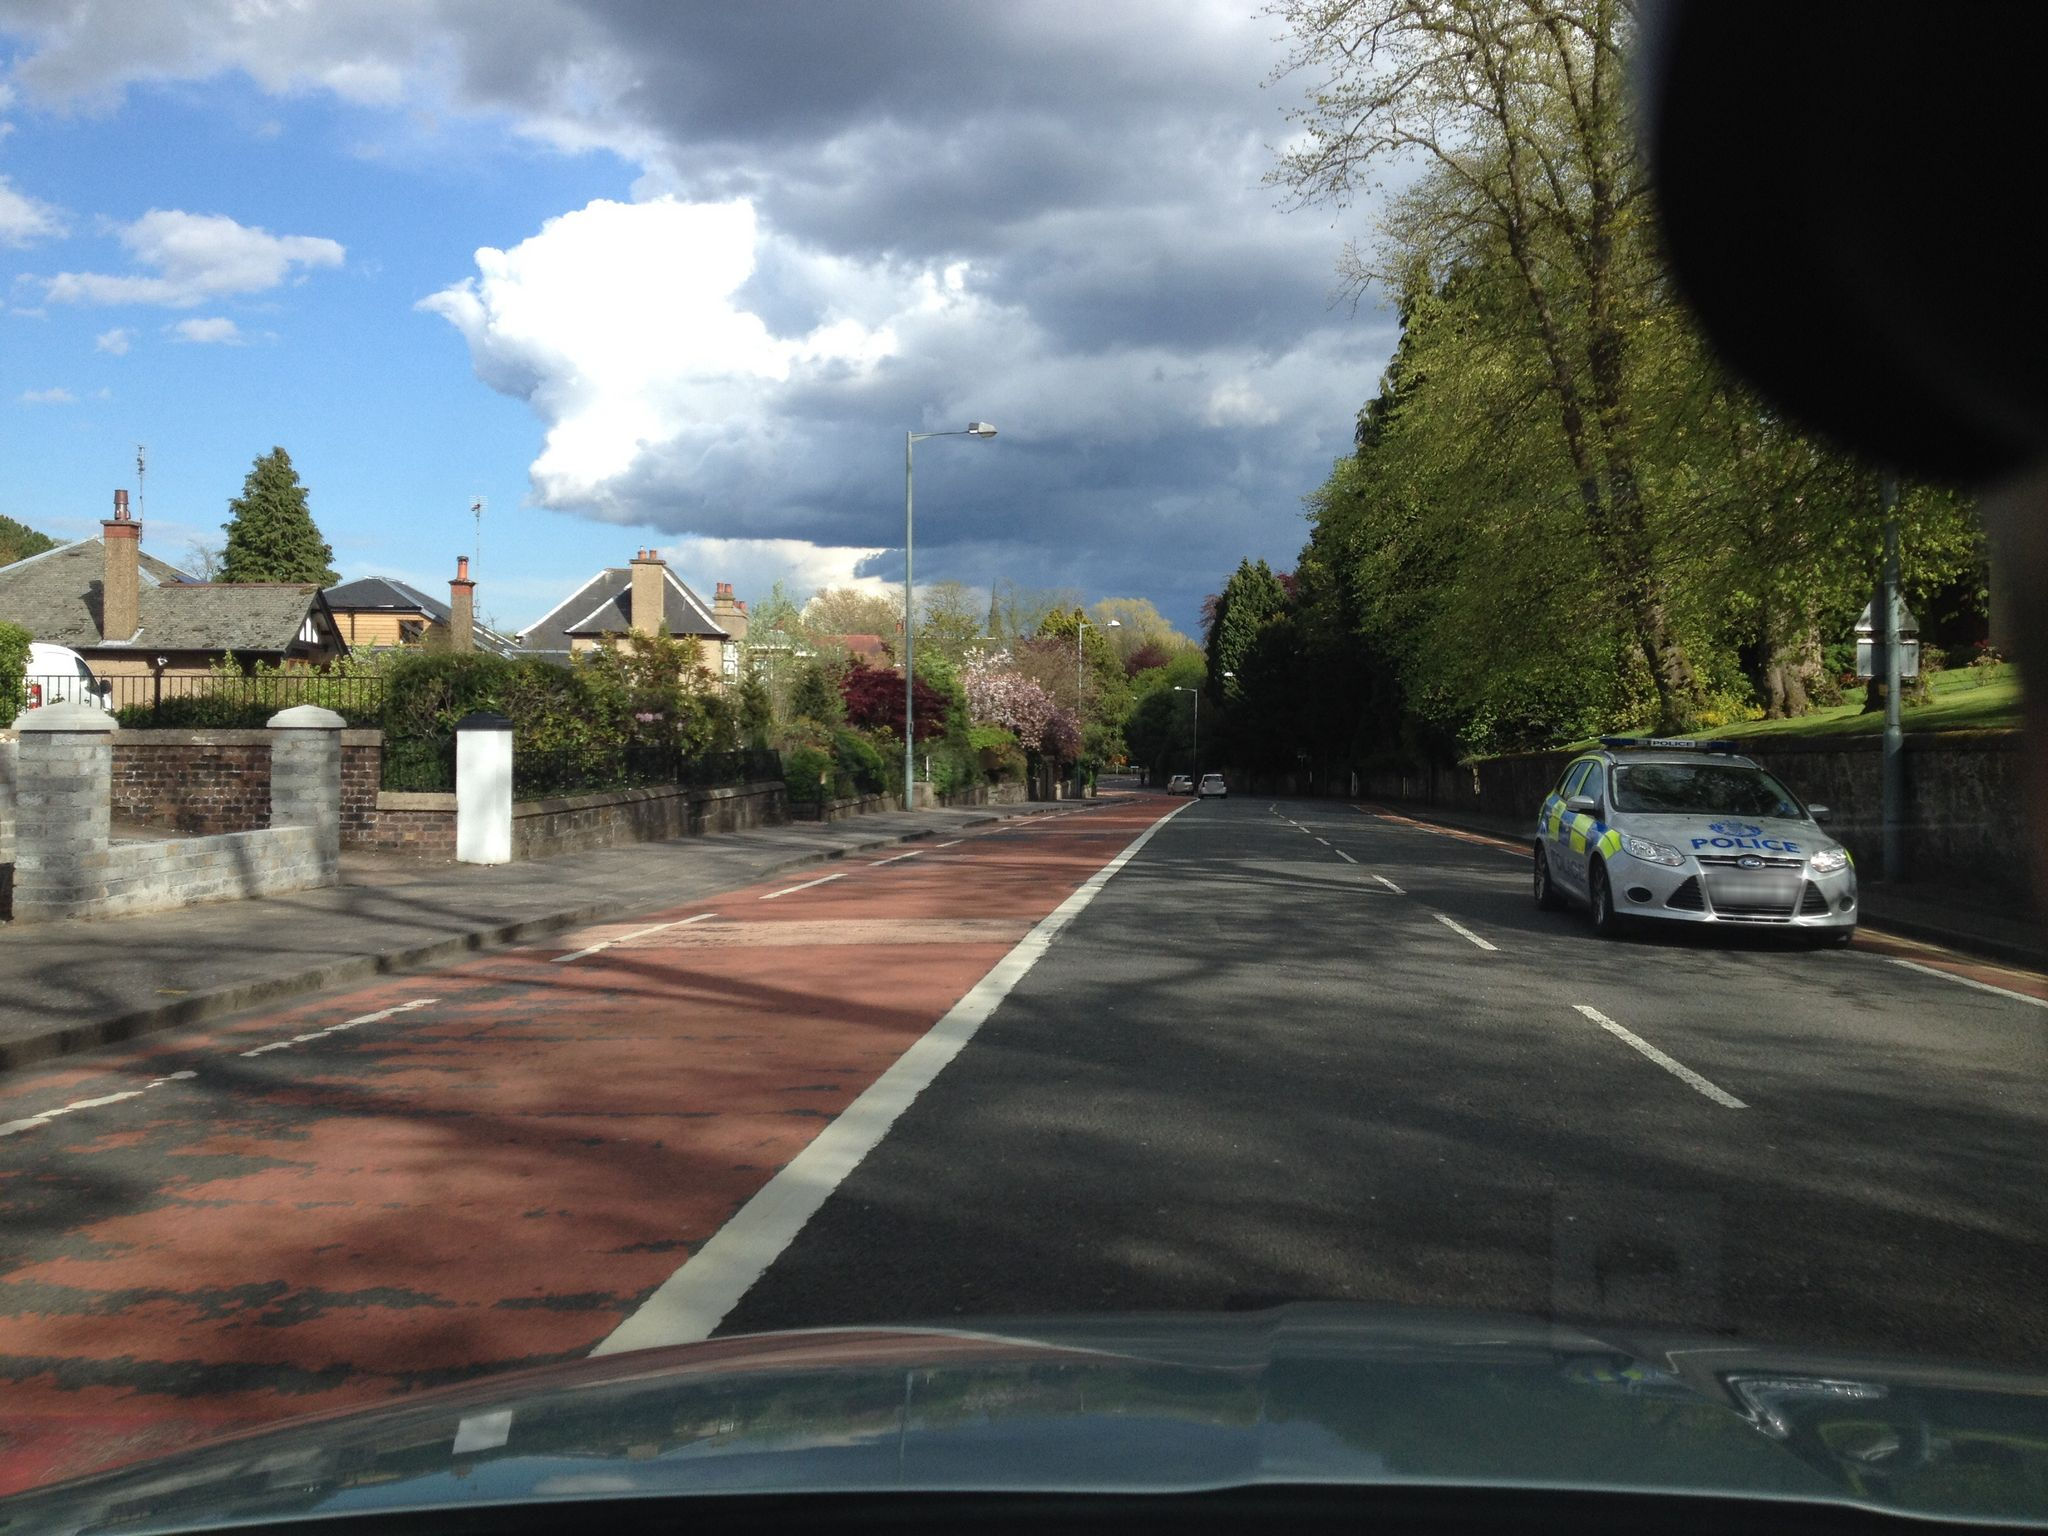car: (1532, 733, 1859, 950), (1197, 773, 1227, 799), (1166, 774, 1193, 795)
